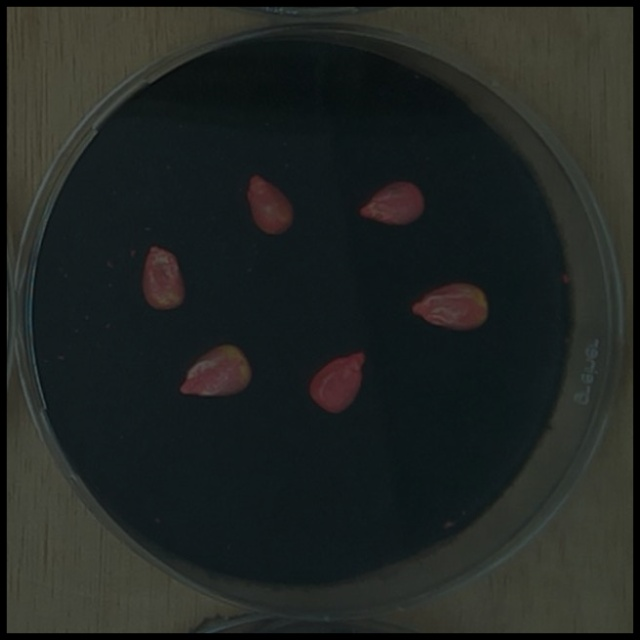Zea mays: (404, 274, 495, 337), (173, 336, 257, 403), (301, 343, 371, 419), (352, 174, 431, 233), (134, 238, 192, 318), (239, 168, 299, 243)
